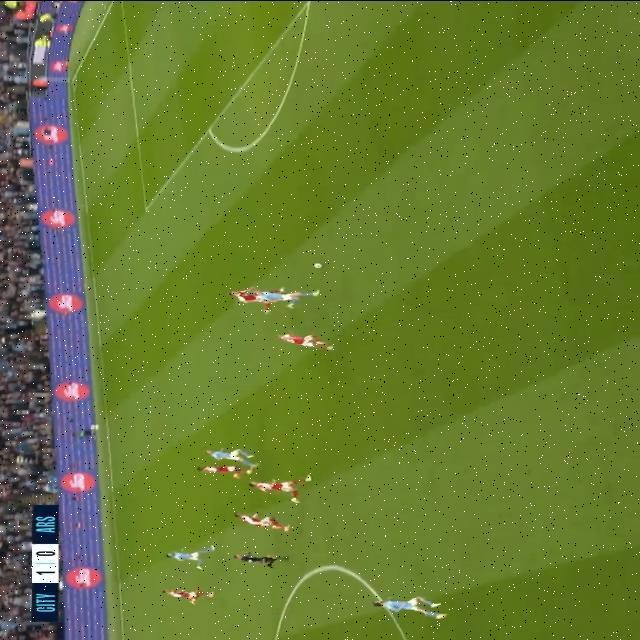ball: (305, 259, 343, 272)
player: (354, 592, 467, 621), (259, 466, 334, 506), (274, 322, 347, 358), (156, 542, 226, 577), (210, 284, 288, 312), (179, 463, 250, 489), (223, 513, 298, 535), (196, 443, 264, 467), (250, 287, 320, 307), (152, 587, 226, 599)
referee: (221, 543, 323, 585)
